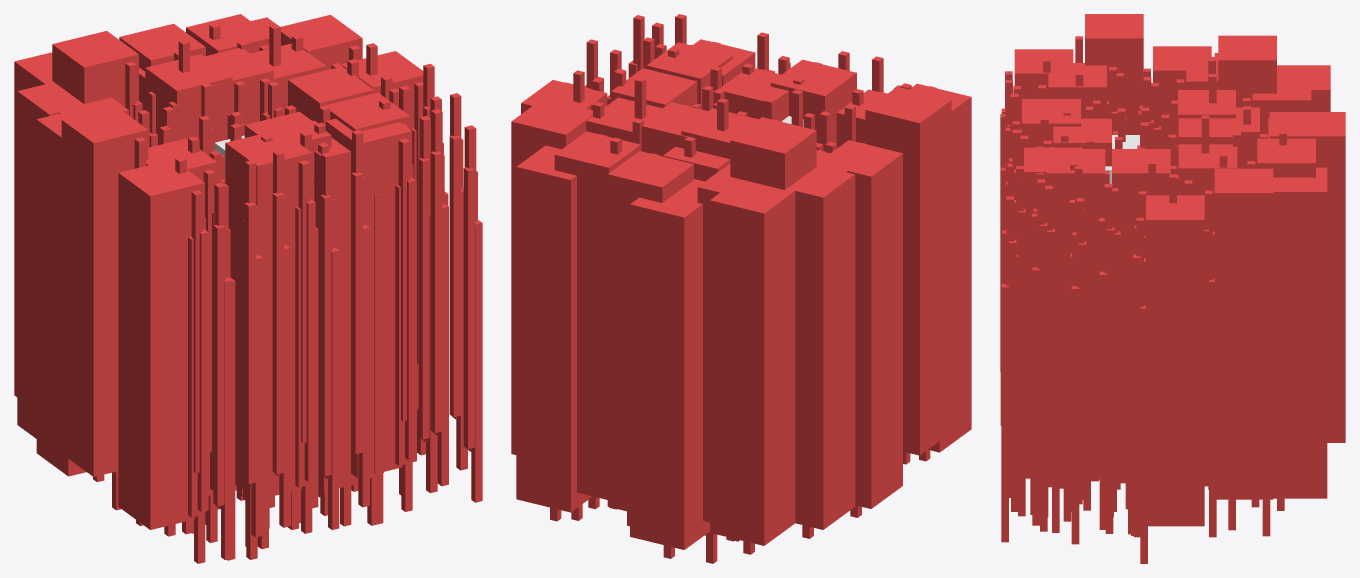
File: Environment_1.fbx
3 views of the same model, side by side, from view 1: azimuth 30°, elevation 25°; view 2: azimuth 150°, elevation 25°; view 3: azimuth 270°, elevation 25° (orthographic). The views are drawn at different scales.
Parts seen in each view (by area): view 1: Building__4__19, Building__4__11, Building__4__3, Building__4__9, Building__4__18, Building__4__24, Building__4__2, Building__4__21, Building__4__23, Building__1__66, Building__1__18, Building__1__62 (+50 smaller); view 2: Building__4__10, Building__4__15, Building__4__24, Building__4__17, Building__4__11, Building__4__9, Building__4__22, Building__4__5, Building__4__19, Building__4__25, Building__4__23, Building__4__6 (+13 smaller); view 3: Building__4__25, Building__4__13, Building__4__17, Building__4__16, Building__4__14, Building__4__15, Building__4__11, Building__4__23, Building__4__18, Building__4__5, Building__4__12, Building__2__61 (+41 smaller).
Part boxes in pixels (<box>): Building__4__19: <box>118,159,204,529</box>; Building__4__11: <box>61,106,148,476</box>; Building__4__3: <box>225,129,311,498</box>; Building__4__9: <box>36,106,96,476</box>; Building__4__18: <box>325,118,412,478</box>; Building__4__24: <box>17,83,103,438</box>; Building__4__2: <box>314,138,358,491</box>; Building__4__21: <box>145,54,232,151</box>; Building__4__23: <box>52,31,138,106</box>; Building__1__66: <box>463,167,475,448</box>; Building__1__18: <box>272,192,283,474</box>; Building__1__62: <box>449,135,460,417</box>; Building__4__10: <box>710,181,795,545</box>; Building__4__15: <box>630,195,709,549</box>; Building__4__24: <box>787,165,855,529</box>; Building__4__17: <box>516,145,592,512</box>; Building__4__11: <box>865,86,951,455</box>; Building__4__9: <box>817,140,902,508</box>; Building__4__22: <box>554,131,640,499</box>; Building__4__5: <box>607,151,693,511</box>; Building__4__19: <box>911,83,971,452</box>; Building__4__25: <box>511,98,592,454</box>; Building__4__23: <box>730,117,816,189</box>; Building__4__6: <box>697,164,769,522</box>; Building__4__25: <box>1214,168,1273,499</box>; Building__4__13: <box>1146,195,1204,526</box>; Building__4__17: <box>1273,167,1327,498</box>; Building__4__16: <box>1046,149,1105,479</box>; Building__4__14: <box>1112,149,1170,479</box>; Building__4__15: <box>1327,112,1345,442</box>; Building__4__11: <box>1085,14,1143,134</box>; Building__4__23: <box>1218,35,1276,107</box>; Building__4__18: <box>1024,147,1082,478</box>; Building__4__5: <box>1269,112,1328,442</box>; Building__4__12: <box>1178,144,1237,231</box>; Building__2__61: <box>1071,286,1079,544</box>.
Size of the model in its own units: 25227 by 31580 by 22397.
